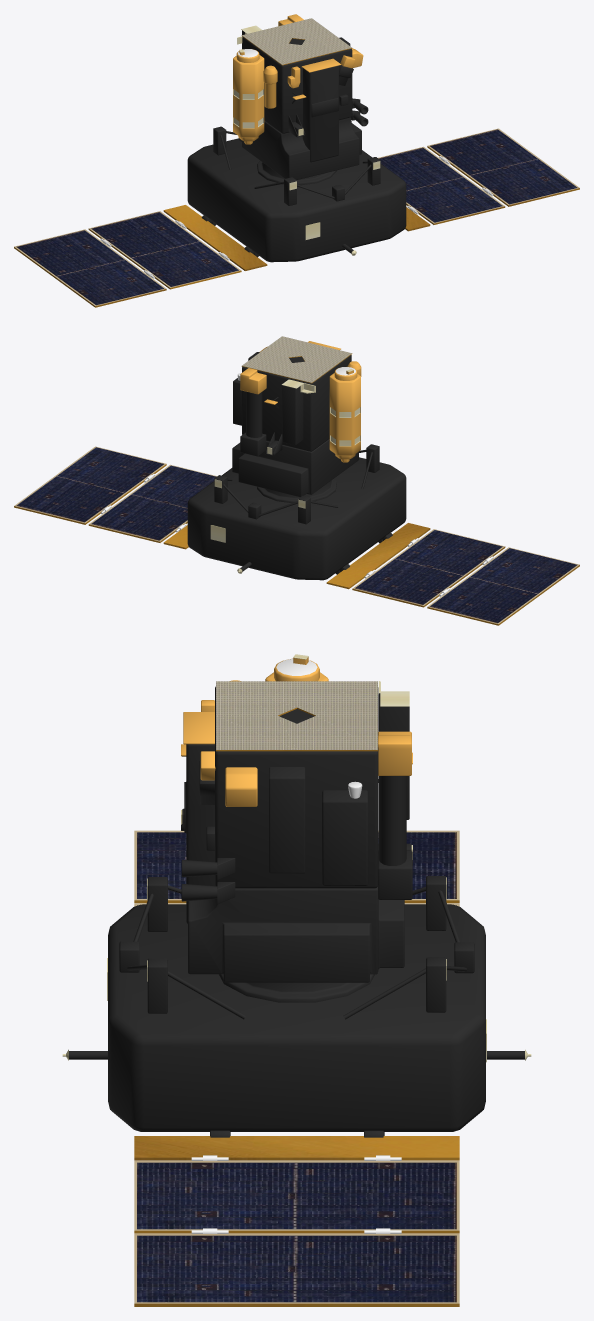
File: soho.gltf
3 renders of one model, top to bottom at view 1: azimuth 30°, elevation 25°; view 2: azimuth 150°, elevation 25°; view 3: azimuth 270°, elevation 25°, orthographic. The views are drawn at different scales.
Parts seen in each view (by area): view 1: BUS_black_krinkle, solar_cells, top_thing, foil_cylinder, orange_array_thing, gold_foil, brass; view 2: BUS_black_krinkle, solar_cells, top_thing, foil_cylinder, orange_array_thing, gold_foil, brass; view 3: BUS_black_krinkle, solar_cells, top_thing, orange_array_thing, gold_foil, foil_cylinder, brass.
Boxes of the visible parts, <box> form: BUS_black_krinkle: <box>187,30,406,262</box>; solar_cells: <box>14,128,579,307</box>; top_thing: <box>241,18,352,65</box>; foil_cylinder: <box>233,49,264,144</box>; orange_array_thing: <box>163,205,430,270</box>; gold_foil: <box>239,14,363,108</box>; brass: <box>237,25,380,255</box>; BUS_black_krinkle: <box>187,352,406,580</box>; solar_cells: <box>14,446,579,625</box>; top_thing: <box>241,336,352,383</box>; foil_cylinder: <box>329,367,360,462</box>; orange_array_thing: <box>163,523,430,589</box>; gold_foil: <box>240,341,361,404</box>; brass: <box>210,369,353,573</box>; BUS_black_krinkle: <box>69,686,524,1131</box>; solar_cells: <box>134,830,459,1306</box>; top_thing: <box>216,681,377,751</box>; orange_array_thing: <box>134,1136,459,1160</box>; gold_foil: <box>181,657,412,806</box>; foil_cylinder: <box>265,658,328,681</box>; brass: <box>62,654,531,1062</box>.
Size of the model in its own units: 9.43 by 3.78 by 3.95.
7 materials, 4 textured.
